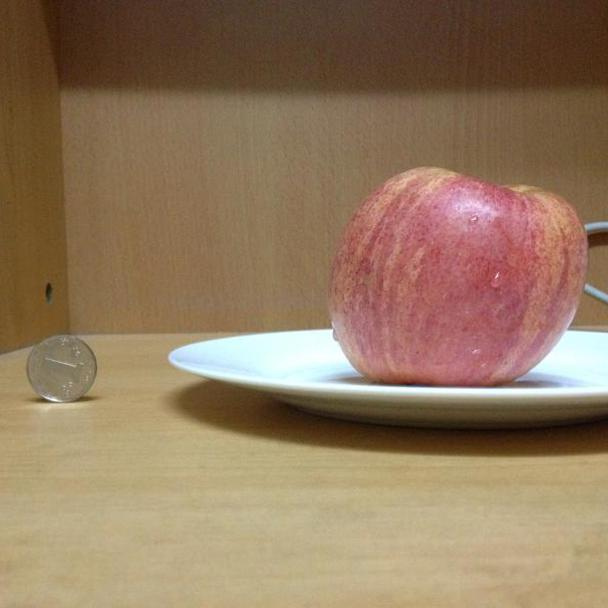apple: (327, 169, 589, 388)
